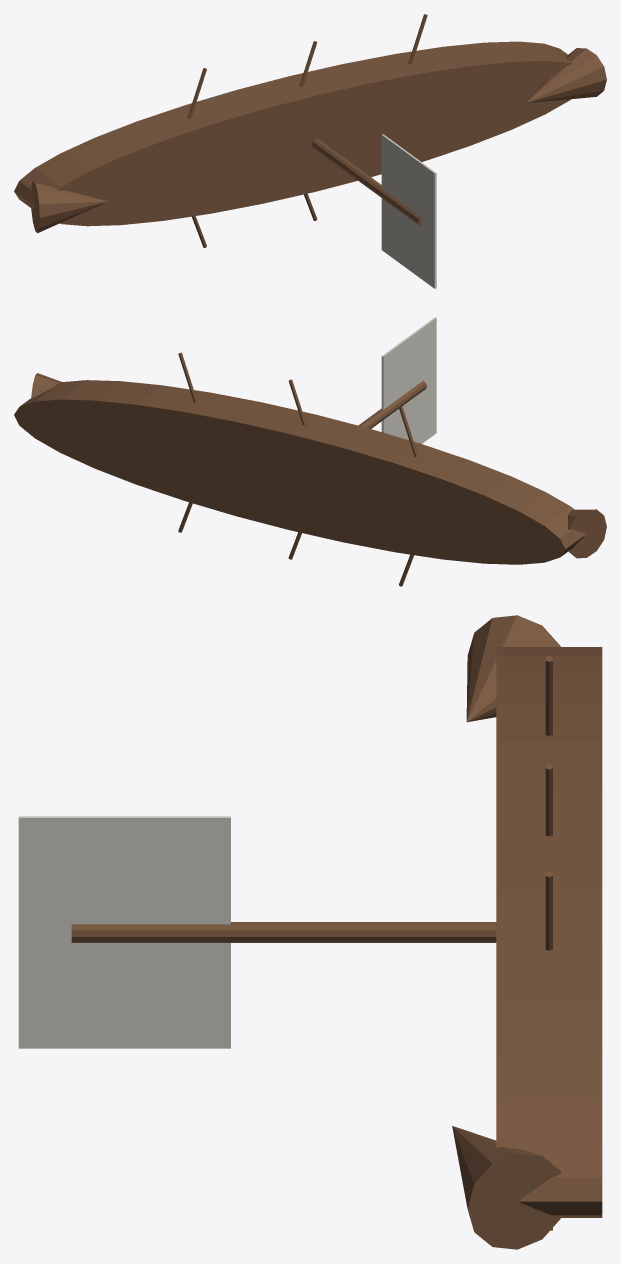
The model's file is viking_ship.glb.
3 renders of one model, top to bottom at view 1: azimuth 30°, elevation 25°; view 2: azimuth 150°, elevation 25°; view 3: azimuth 270°, elevation 25°, orthographic. The views are drawn at different scales.
Visible parts, largest first — view 1: world; view 2: world; view 3: world.
Part boxes in pixels (x1,y1,x2,y2): world: (14,14,606,288); world: (14,317,606,586); world: (18,615,602,1249).
Bounding box in the file's own units: 6.17 × 1.87 × 2.75.
